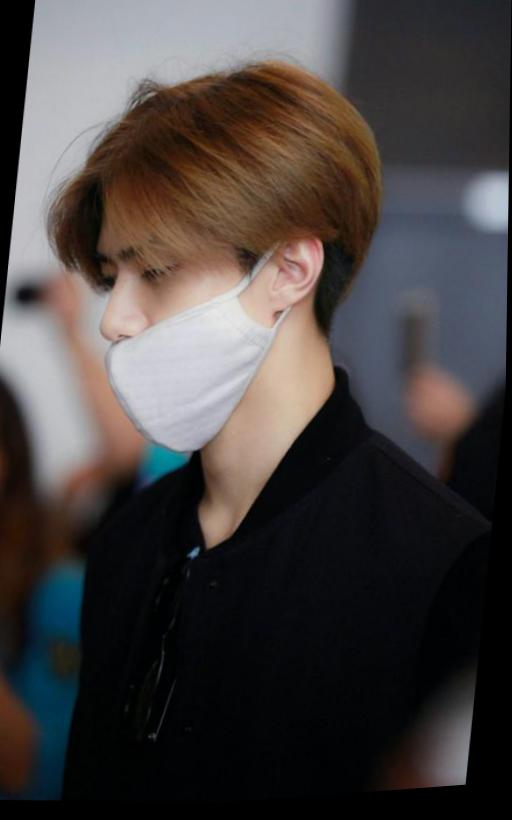WRONG: (85, 205, 331, 463)
